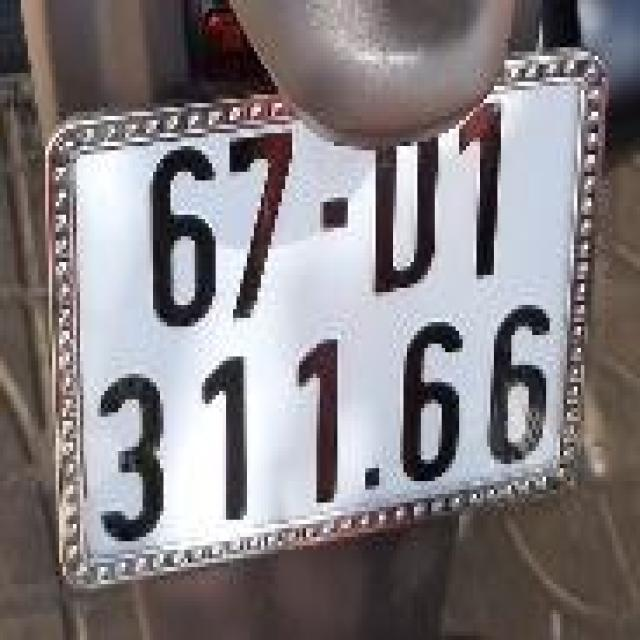1: (193, 354, 273, 526), (290, 337, 360, 509), (454, 103, 513, 288)
3: (90, 367, 181, 548)
6: (143, 140, 226, 328), (391, 310, 468, 486), (482, 307, 558, 470)
7: (224, 124, 301, 330)
D: (365, 118, 449, 299)
